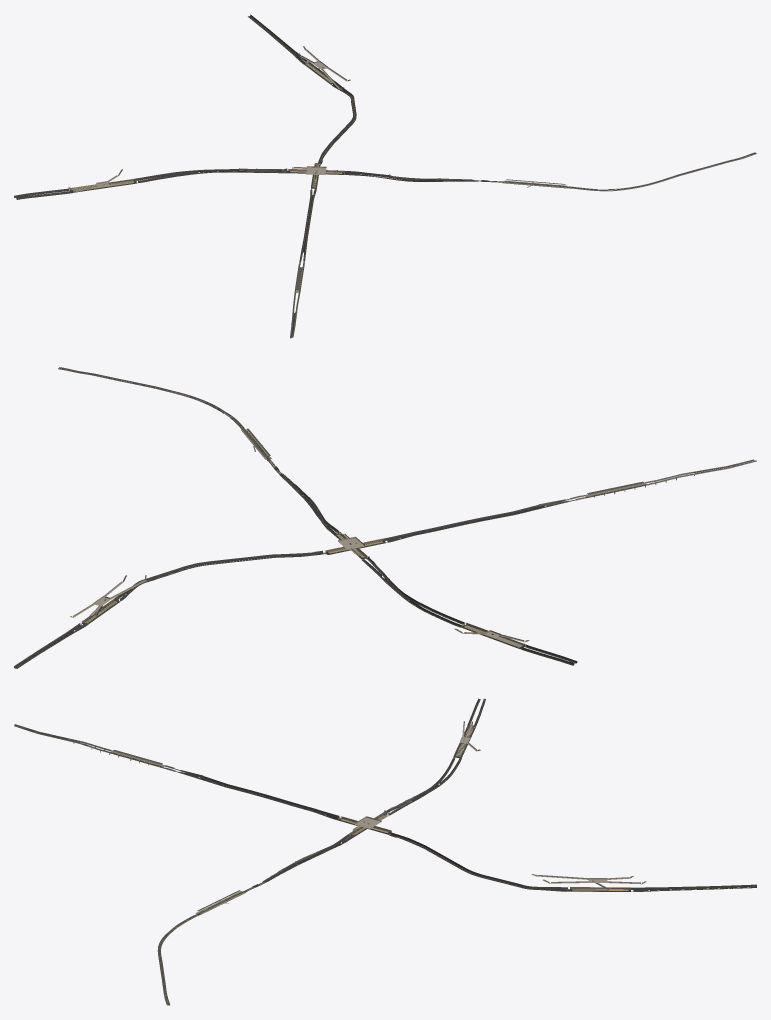
The model's file is transit.glb.
3 views of the same model, one above another, from view 1: azimuth 30°, elevation 25°; view 2: azimuth 150°, elevation 25°; view 3: azimuth 270°, elevation 25° (orthographic). The views are drawn at different scales.
Parts seen in each view (by area): view 1: transit_int_3_4, transit_int_1_3; view 2: transit_int_3_4, transit_int_4_1, transit_int_1_3, transit_ext_1_6; view 3: transit_int_4_1, transit_int_3_4, transit_int_4_2.
Part boxes in pixels (box(x1,y1,x2,y2)): transit_int_3_4: box(288, 165, 399, 192); transit_int_1_3: box(77, 171, 186, 191); transit_int_3_4: box(313, 507, 395, 558); transit_int_4_1: box(65, 581, 142, 635); transit_int_1_3: box(419, 604, 520, 645); transit_ext_1_6: box(566, 478, 670, 501); transit_int_4_1: box(545, 876, 662, 891); transit_int_3_4: box(308, 812, 391, 856); transit_int_4_2: box(471, 871, 583, 891).
Bounding box in the file's own units: 2001 × 38.44 × 2001.
